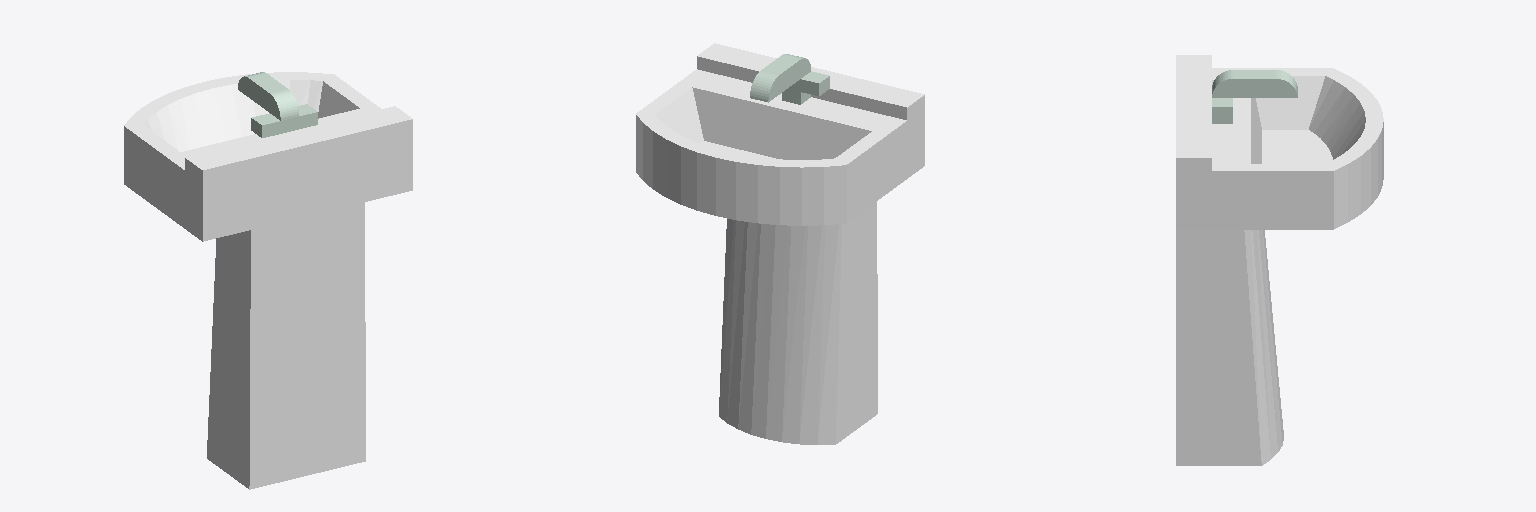
File: bathroomSink.obj
3 views of the same model, side by side, from view 1: azimuth 30°, elevation 25°; view 2: azimuth 150°, elevation 25°; view 3: azimuth 270°, elevation 25° (orthographic).
Parts seen in each view (by area): view 1: bathroomSink; view 2: bathroomSink; view 3: bathroomSink.
Boxes of the visible parts, <box> form: bathroomSink: <box>124,72,412,489</box>; bathroomSink: <box>636,43,924,444</box>; bathroomSink: <box>1176,55,1383,465</box>.
Bounding box in the file's own units: 3.4 × 5.6 × 2.9.